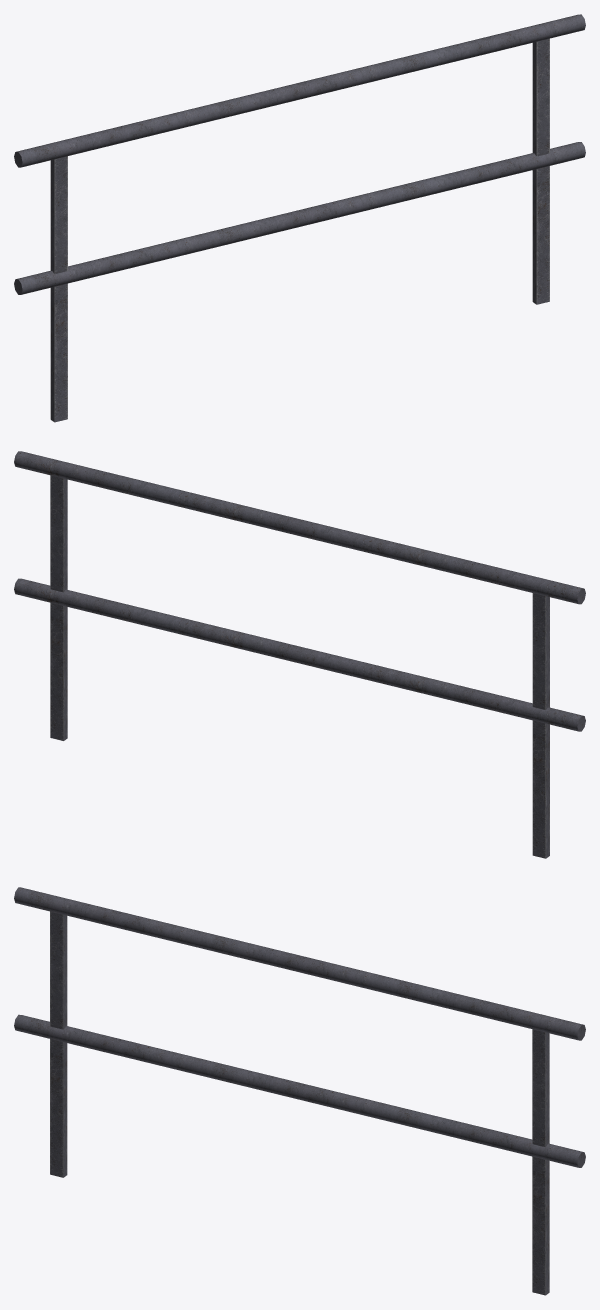
Rendered from SM_Railing_A.fbx.
The picture shows the model from 3 angles, top to bottom: view 1: azimuth 30°, elevation 25°; view 2: azimuth 150°, elevation 25°; view 3: azimuth 330°, elevation 25°; orthographic projection.
Parts seen in each view (by area): view 1: SM_Railng_A; view 2: SM_Railng_A; view 3: SM_Railng_A.
Boxes of the visible parts, box(x1,y1,x2,y2) form: SM_Railng_A: box(14, 14, 585, 422); SM_Railng_A: box(14, 451, 585, 858); SM_Railng_A: box(14, 887, 585, 1295).
Bounding box in the file's own units: 250 × 118 × 6.63.
